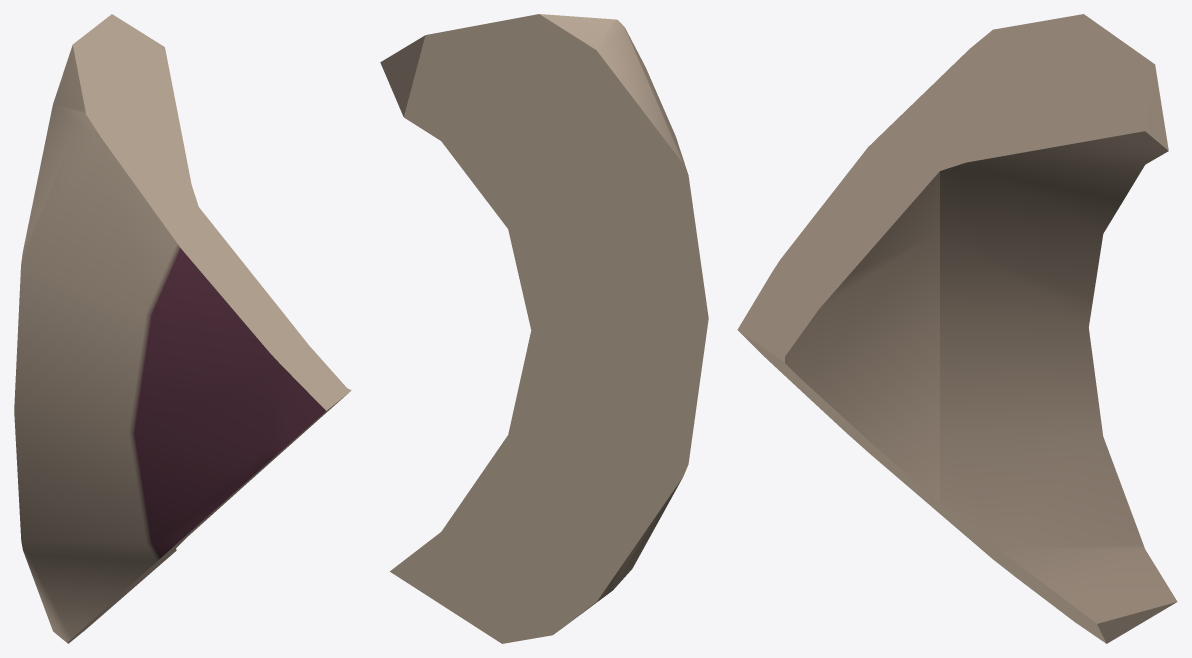
File: Pot_Cell12.fbx
3 renders of one model, left to right at view 1: azimuth 30°, elevation 25°; view 2: azimuth 150°, elevation 25°; view 3: azimuth 270°, elevation 25°, orthographic. The views are drawn at different scales.
Visible parts, largest first — view 1: jar1_cell.012; view 2: jar1_cell.012; view 3: jar1_cell.012.
Part boxes in pixels (x1,y1,x2,y2): jar1_cell.012: [14, 14, 351, 643]; jar1_cell.012: [380, 14, 708, 643]; jar1_cell.012: [737, 14, 1177, 643].
Size of the model in its own units: 68.62 by 161 by 104.
